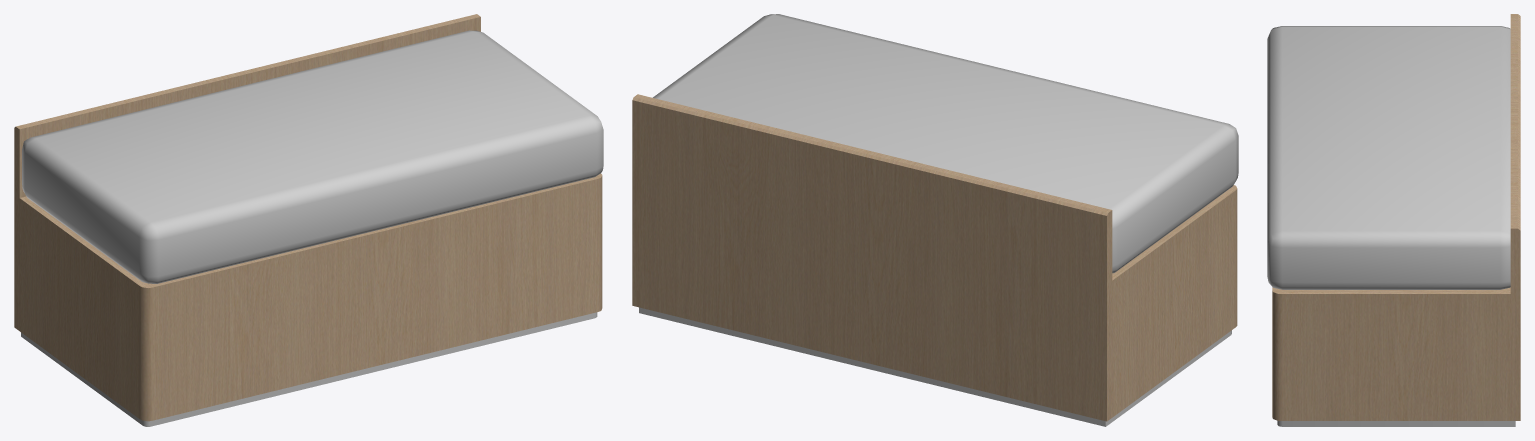
Rendered from D_Bench_303.fbx.
3 views of the same model, side by side, from view 1: azimuth 30°, elevation 25°; view 2: azimuth 150°, elevation 25°; view 3: azimuth 270°, elevation 25° (orthographic). The views are drawn at different scales.
Visible parts, largest first — view 1: D_Bench_303; view 2: D_Bench_303; view 3: D_Bench_303.
Boxes of the visible parts, left/top/right/bottom form: D_Bench_303: left=14, top=14, right=603, bottom=426; D_Bench_303: left=632, top=14, right=1238, bottom=426; D_Bench_303: left=1267, top=14, right=1520, bottom=426.
Bounding box in the file's own units: 1.2 × 0.52 × 0.5959.
